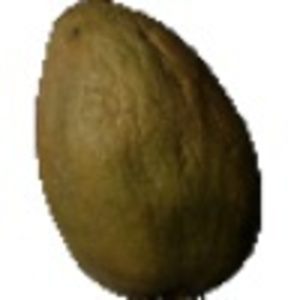mamão: (19, 2, 266, 294)
